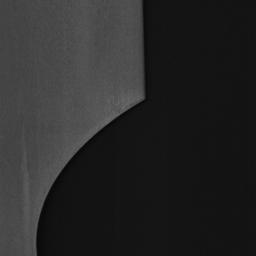Crescent gap: (36, 102, 143, 256)
